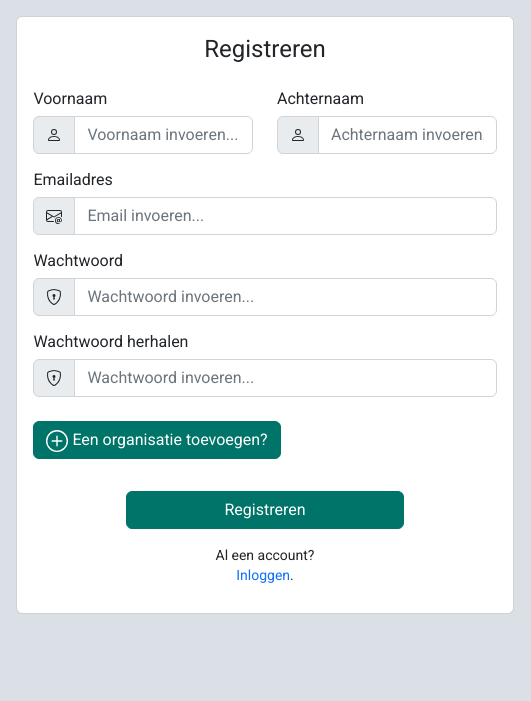
Test: Testing the error handling responses on incorrect input. › Enter all input fiels but email. Should return a error
This screenshot has width=531, height=701.
Type "John" into the field with id "firstNameInput" at (164, 135), box top-left (74, 116), bottom-right (253, 154)
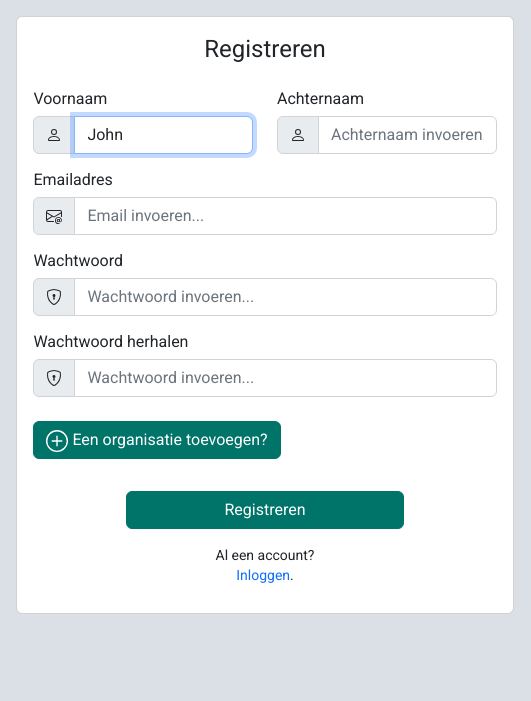
Type "Doe" into the field with id "lastNameInput" at (408, 135), box top-left (318, 116), bottom-right (497, 154)
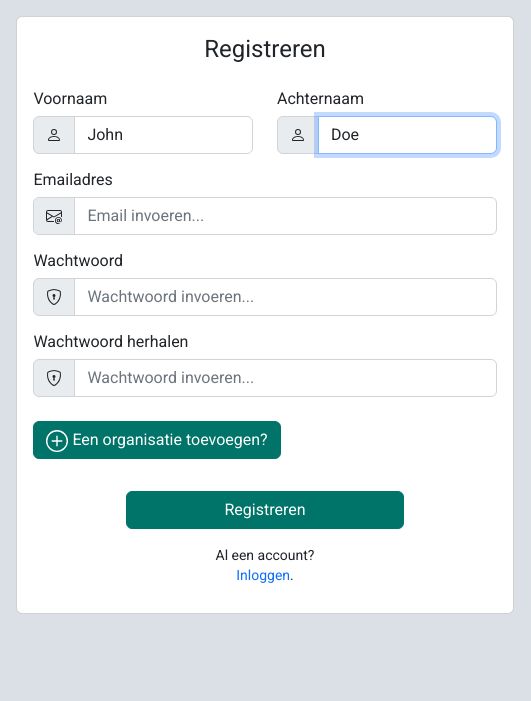
Type "123456" into the password field labelled "Wachtwoord" at (285, 297), box top-left (74, 278), bottom-right (496, 316)
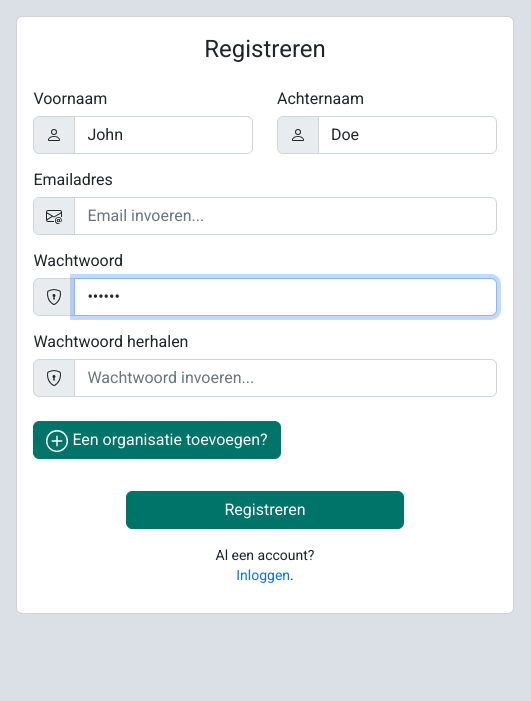
Type "123456" into the password field with id "repeatPasswordInput" at (285, 378), box top-left (74, 359), bottom-right (496, 397)
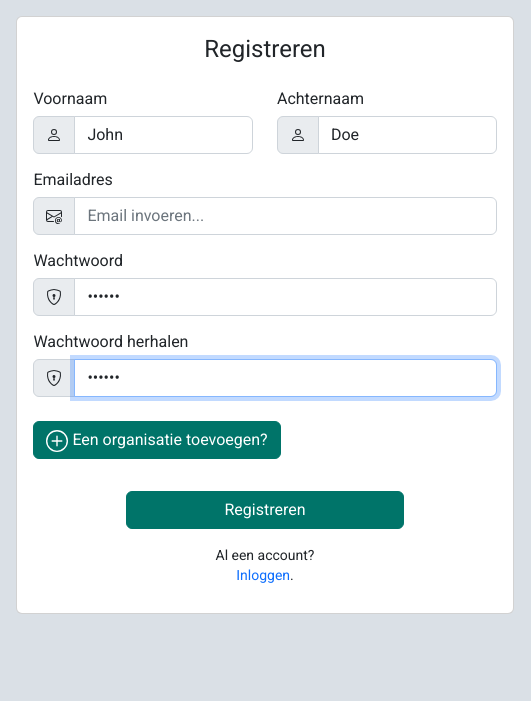
Click the button "Registreren" at (265, 510), box top-left (126, 491), bottom-right (404, 529)
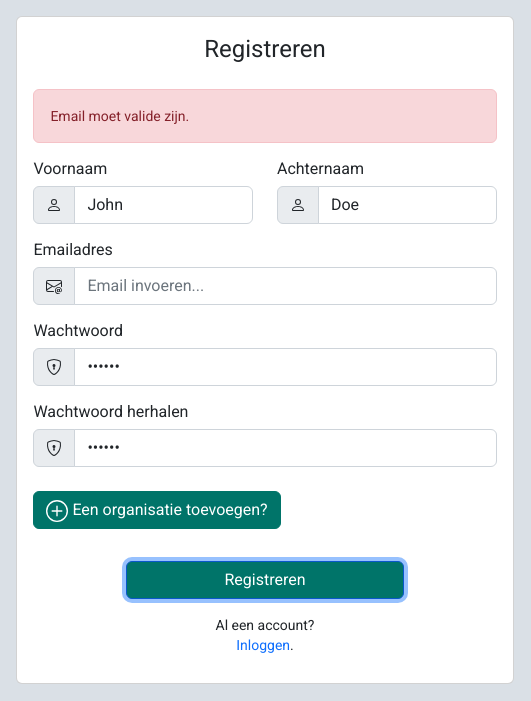
Now the text "Email moet valide zijn." is shown once, box top-left (50, 108), bottom-right (189, 124)
Now the text "Email moet valide zijn." is shown, box top-left (33, 89), bottom-right (497, 143)
